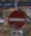No entry: (5, 6, 26, 30)
